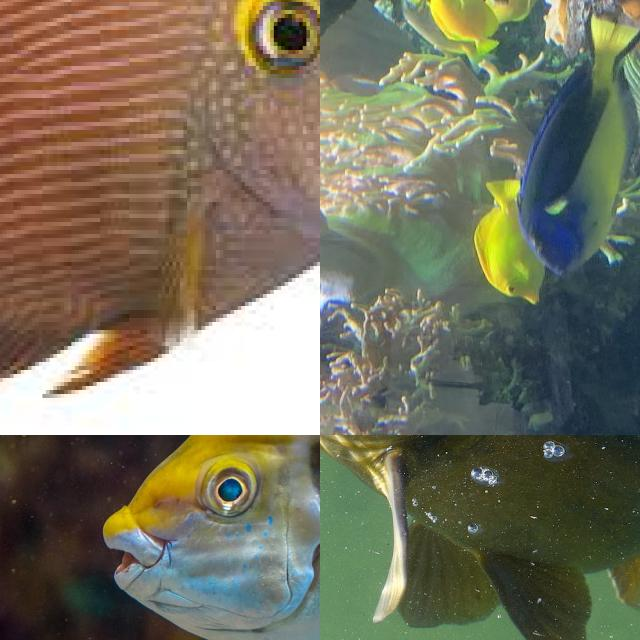fish: (0, 0, 320, 435), (39, 435, 320, 640), (320, 435, 600, 607)
